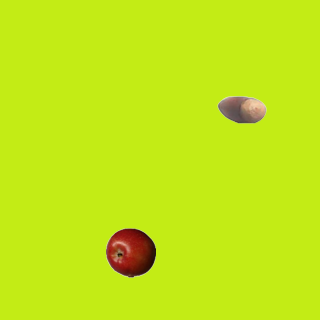Apple Braeburn: (105, 227, 155, 277)
Hazelnut: (216, 84, 266, 134)
